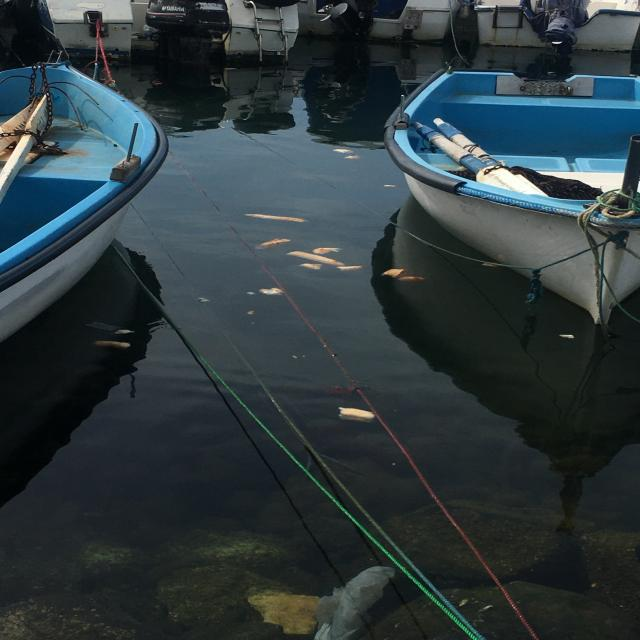Plastic bag: (308, 563, 399, 640)
